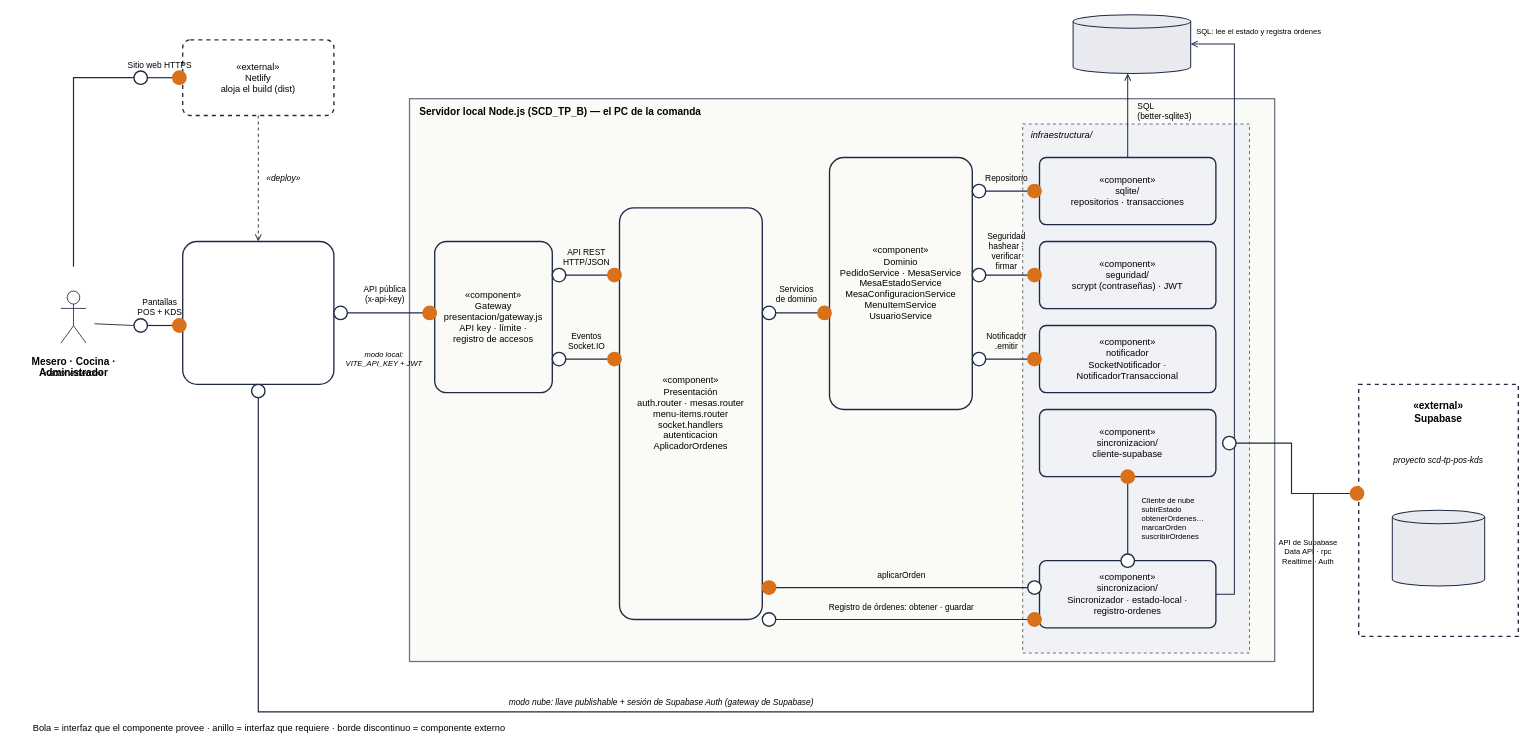
The diagram is 1533 pixels wide and 752 high, and some of its shapes have lost their labels. The centre of each missing label's shape, as x and y in pixels:
"Postgres (nube)" belongs at point (1438, 547).
"SQLite (archivo .db)" belongs at point (1131, 44).
"«component» SPA React (POS + riel de comandas) api.js · nube.js" belongs at point (258, 312).
